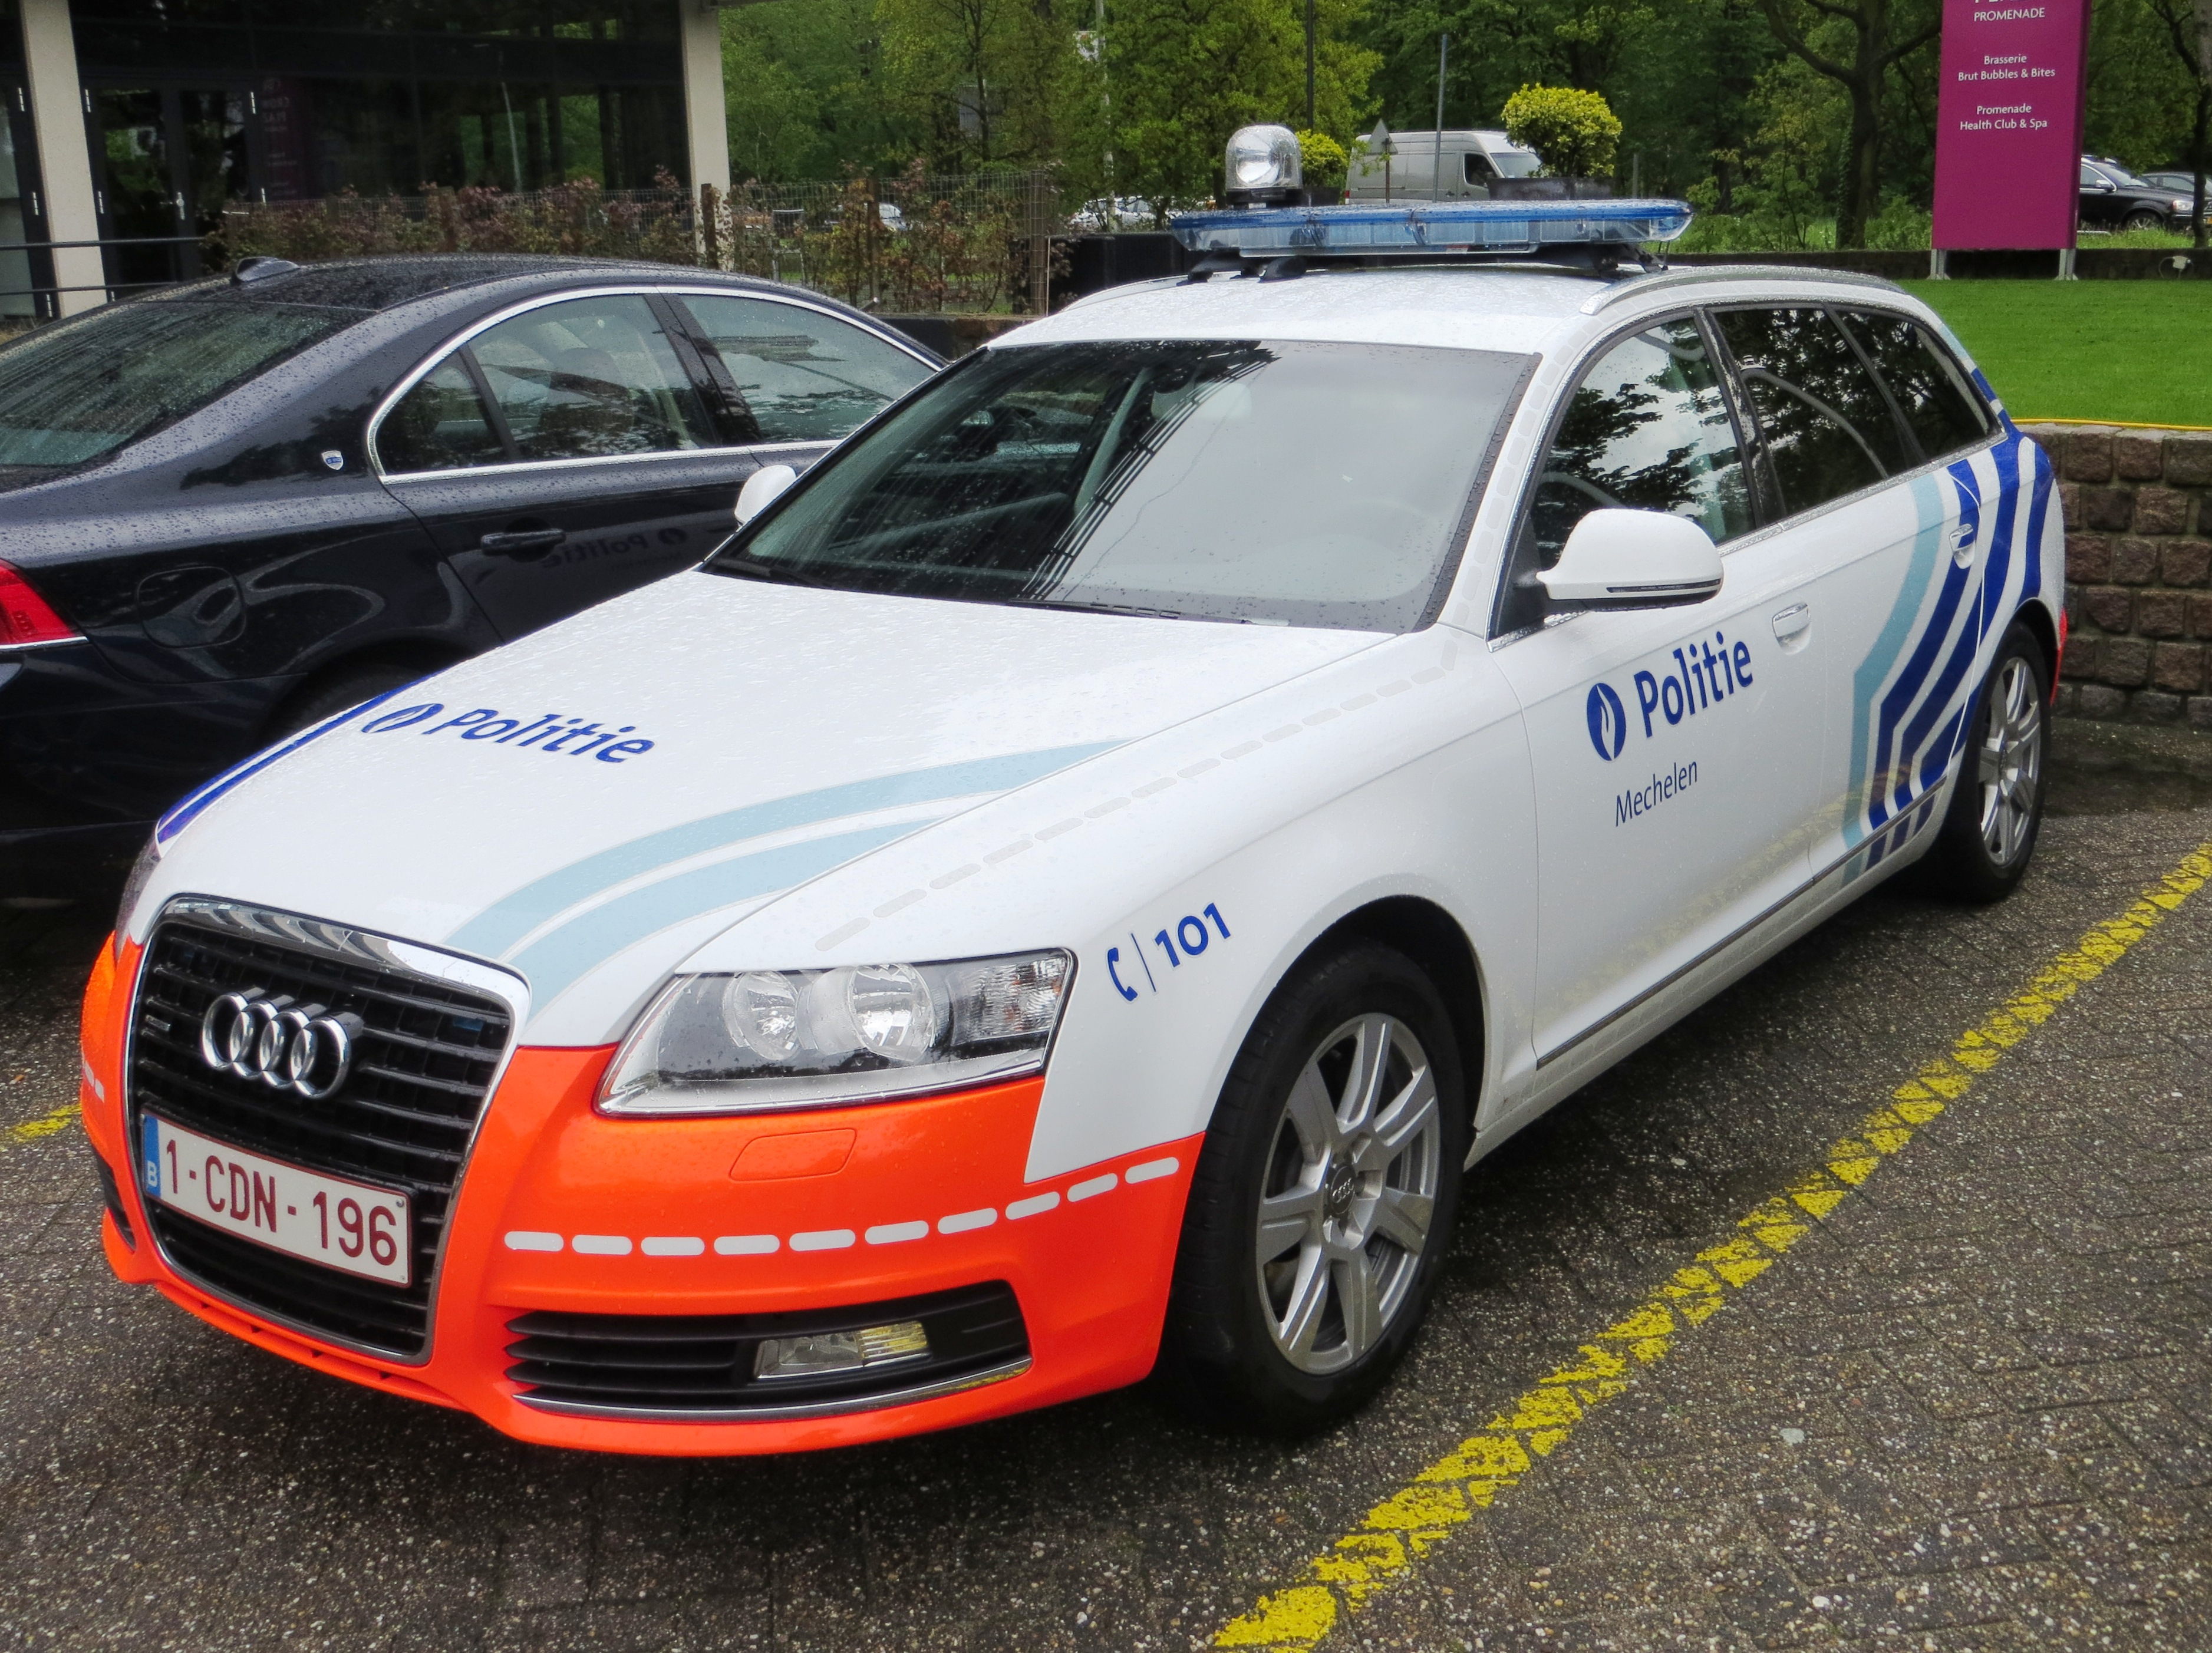licenceplate: (137, 1116, 420, 1295)
